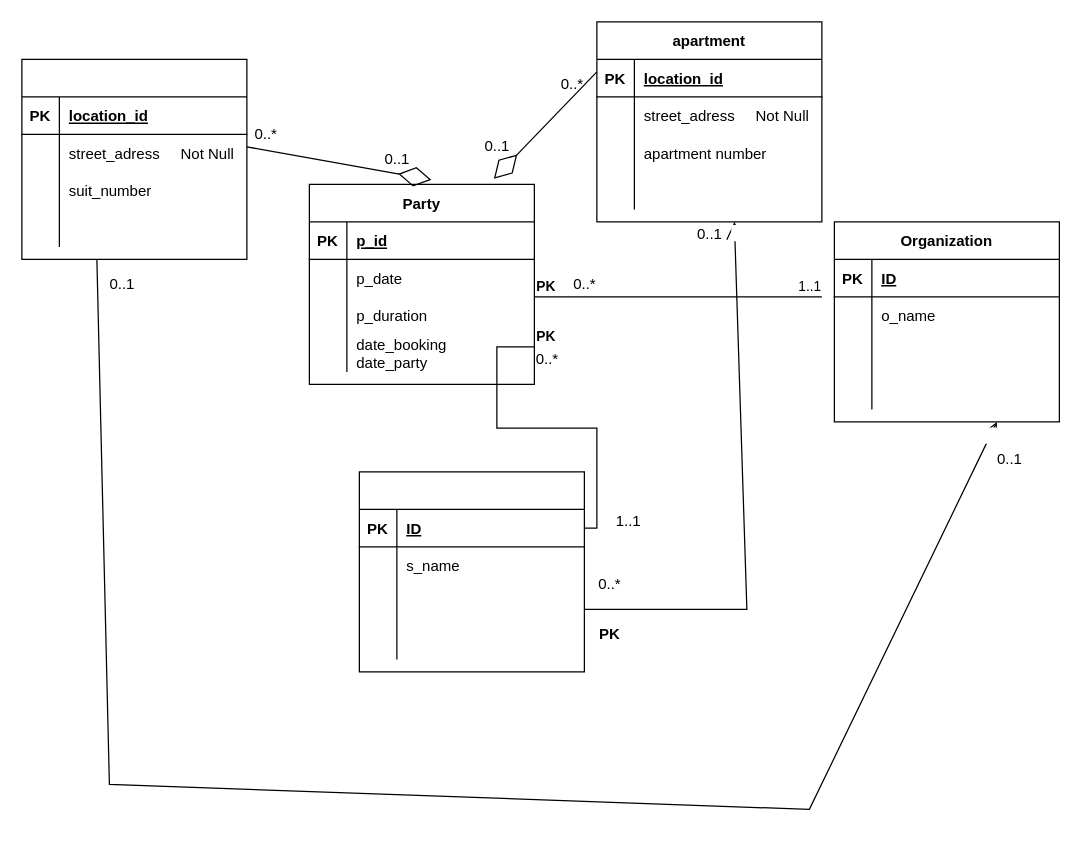
This 1081x849 diagram has some shape labels left out. The shapes that lost their labels are listed below. From the top down, each one's box as (x1, y1, x2, y2) in pixels, then its label:
(21, 58, 247, 259): club house
(358, 471, 584, 672): Student
